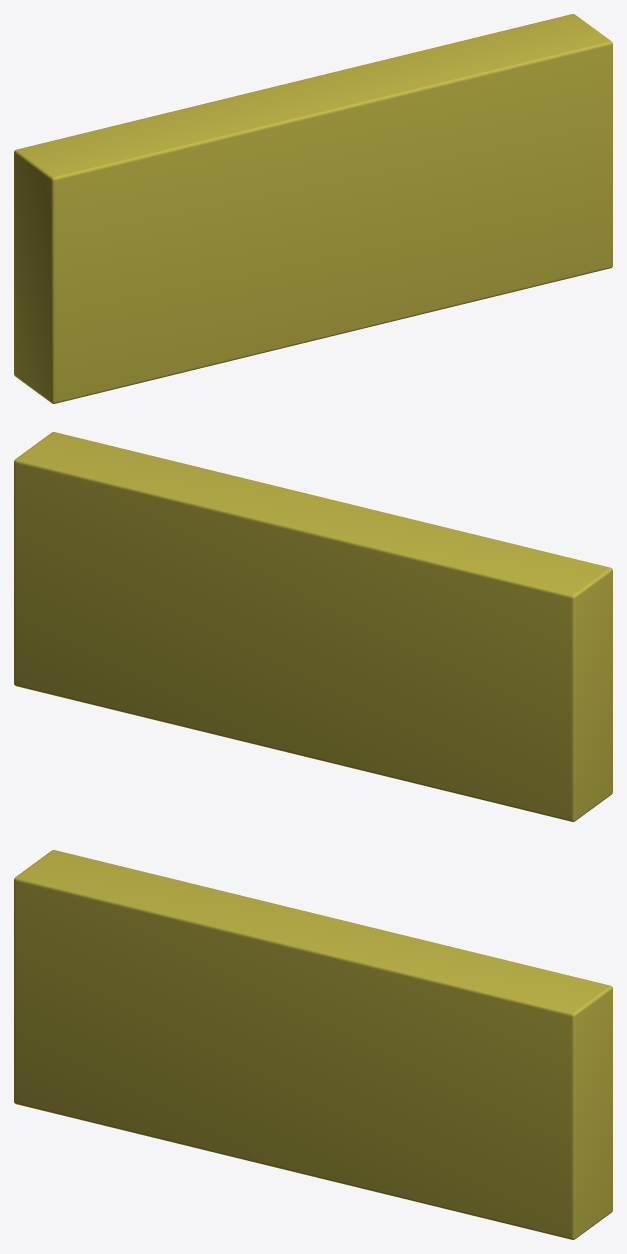
Rendered from SM_wall_stone.fbx.
3 views of the same model, one above another, from view 1: azimuth 30°, elevation 25°; view 2: azimuth 150°, elevation 25°; view 3: azimuth 330°, elevation 25° (orthographic).
Visible parts, largest first — view 1: Object32341; view 2: Object32341; view 3: Object32341.
Boxes of the visible parts, x1,y1,x2,y2 form: Object32341: (14, 14, 612, 403); Object32341: (14, 432, 612, 821); Object32341: (14, 850, 612, 1239).
Bounding box in the file's own units: 120 × 46.28 × 14.76.
